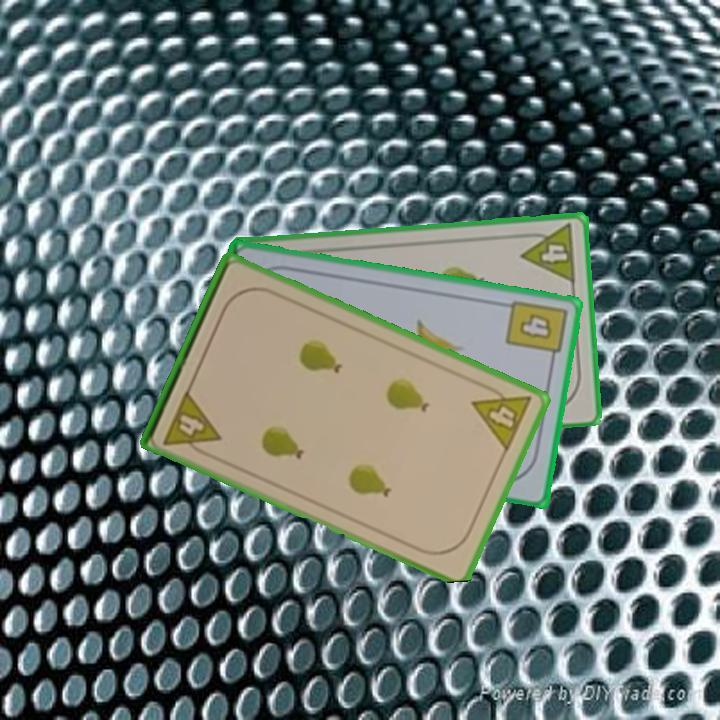4b: (502, 296, 570, 367)
4p: (468, 378, 535, 455), (160, 386, 224, 461), (516, 220, 579, 286)
